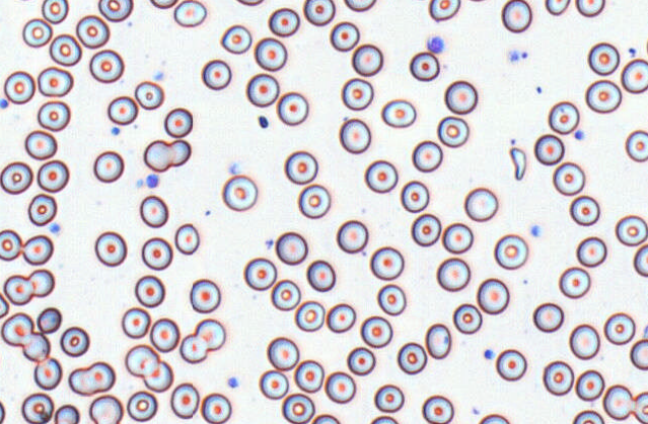PLT: (424, 34, 446, 54), (145, 173, 161, 190), (573, 128, 588, 143), (227, 376, 243, 390), (47, 220, 61, 235), (530, 223, 544, 238), (482, 348, 496, 361), (508, 50, 521, 64), (151, 69, 165, 81), (0, 96, 9, 111), (110, 125, 121, 136)
RBC: (68, 361, 115, 395), (222, 174, 257, 211), (493, 233, 528, 269), (585, 79, 622, 113), (124, 344, 160, 378), (476, 277, 509, 314), (89, 49, 124, 83), (369, 246, 404, 280), (463, 187, 498, 221), (338, 117, 371, 153), (0, 312, 34, 346), (436, 257, 470, 291), (364, 159, 398, 193), (284, 150, 318, 184), (75, 14, 109, 48), (297, 183, 330, 218), (246, 72, 279, 107), (94, 231, 127, 266), (602, 384, 634, 420), (266, 336, 299, 370), (552, 161, 585, 195), (243, 257, 277, 290), (254, 37, 287, 71), (444, 80, 477, 114), (542, 360, 574, 395), (569, 323, 600, 359), (37, 66, 73, 97), (0, 161, 33, 194), (36, 159, 69, 192), (587, 42, 620, 75), (275, 231, 307, 265), (336, 219, 368, 253), (276, 91, 308, 125), (3, 70, 35, 104), (189, 278, 220, 313), (170, 382, 199, 419), (495, 348, 527, 381), (360, 315, 392, 348), (49, 33, 81, 66), (603, 312, 635, 345), (351, 43, 383, 76), (341, 77, 373, 110), (293, 359, 324, 393), (281, 392, 315, 423), (548, 100, 579, 134), (141, 236, 172, 270), (149, 317, 179, 352), (381, 98, 416, 128), (324, 371, 356, 403), (615, 214, 647, 246), (441, 222, 473, 254), (558, 266, 590, 298), (437, 115, 469, 147), (410, 213, 441, 246), (134, 274, 165, 307), (24, 129, 57, 160), (37, 100, 70, 131), (194, 318, 225, 350), (21, 392, 53, 423), (501, 0, 532, 32), (411, 140, 442, 172), (93, 150, 124, 182), (143, 359, 173, 392), (397, 341, 427, 374), (27, 193, 57, 226), (89, 394, 123, 423), (424, 323, 451, 359), (2, 274, 33, 305), (22, 234, 53, 265), (126, 390, 157, 421), (200, 392, 231, 423), (569, 195, 600, 226), (294, 300, 325, 331), (576, 236, 607, 267), (532, 302, 564, 332), (534, 133, 564, 165), (376, 283, 406, 315), (33, 357, 62, 390), (421, 394, 454, 423), (59, 326, 89, 357), (220, 24, 251, 54), (270, 279, 300, 310), (452, 303, 482, 334), (201, 59, 231, 90), (143, 139, 172, 171), (121, 306, 150, 338), (575, 369, 604, 401), (306, 259, 335, 291), (139, 195, 168, 227), (400, 180, 429, 212), (268, 7, 300, 36), (621, 58, 647, 93), (258, 369, 288, 399), (326, 302, 356, 332), (329, 21, 359, 51), (107, 95, 137, 125), (409, 51, 439, 81), (163, 107, 193, 137), (22, 17, 52, 47), (373, 383, 404, 412), (173, 0, 206, 27), (134, 80, 164, 109), (22, 331, 50, 362), (346, 346, 375, 375), (179, 333, 207, 363), (303, 0, 335, 26), (174, 223, 199, 254), (98, 0, 133, 22), (28, 268, 54, 297), (0, 228, 22, 261), (625, 129, 647, 162), (36, 306, 61, 334), (428, 0, 460, 21), (41, 0, 68, 24), (169, 139, 191, 166), (630, 338, 647, 370), (575, 0, 605, 17), (53, 404, 79, 423), (633, 243, 647, 276), (633, 391, 647, 423), (572, 409, 604, 423), (544, 0, 570, 15), (344, 0, 376, 11), (478, 413, 509, 423), (311, 413, 340, 423), (370, 414, 398, 423), (149, 0, 177, 9), (0, 292, 9, 318), (236, 0, 264, 6), (0, 400, 5, 423), (642, 323, 648, 339), (0, 344, 3, 375), (466, 0, 491, 2), (13, 0, 37, 2)
Schistocyte: (509, 146, 532, 181)
